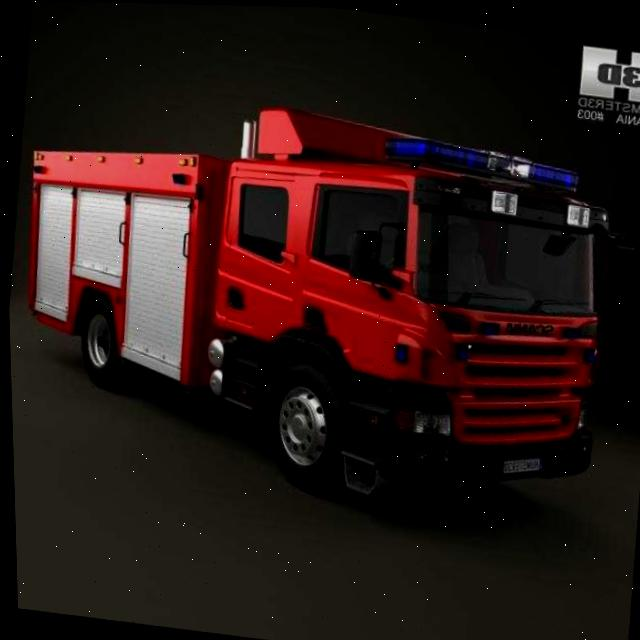emergency: (2, 75, 640, 528)
